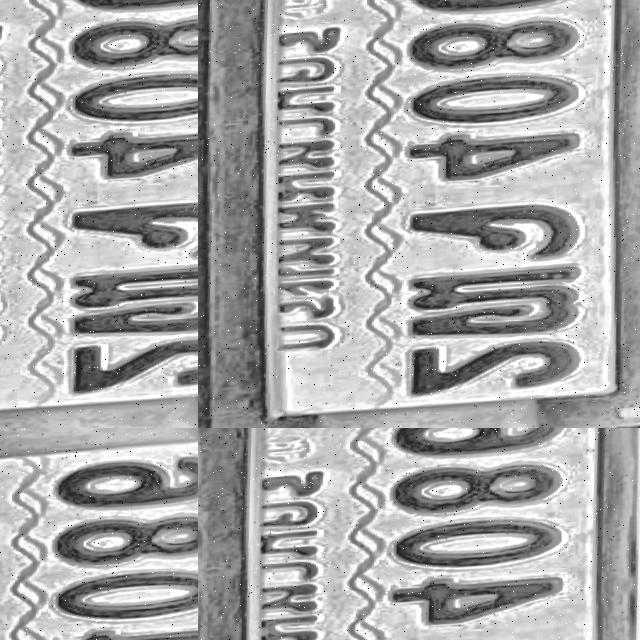license-plate: (198, 0, 640, 428), (198, 428, 640, 640), (60, 148, 198, 428)
